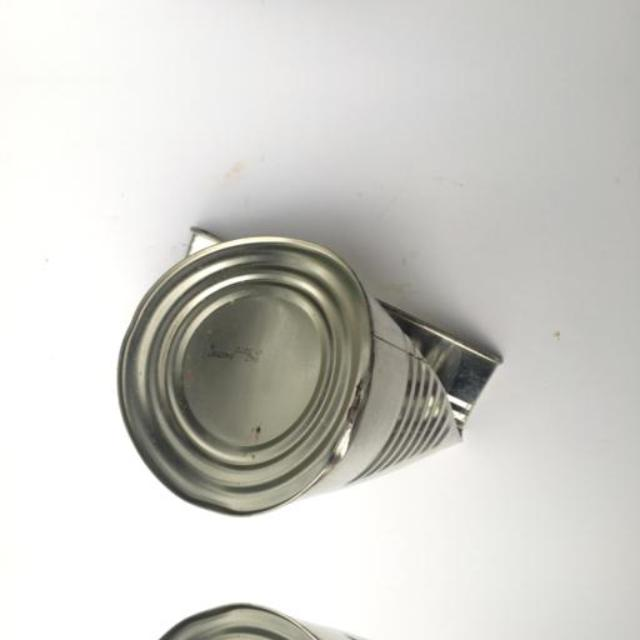Metal: (64, 202, 522, 530), (63, 590, 522, 640)
